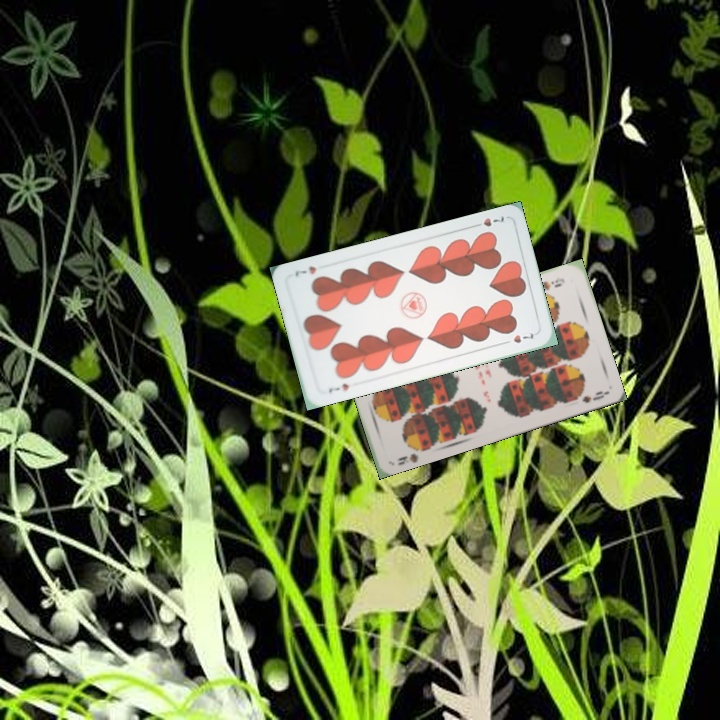H7: (468, 212, 507, 230), (324, 379, 351, 395)
S9: (392, 440, 428, 468), (538, 273, 567, 293)
